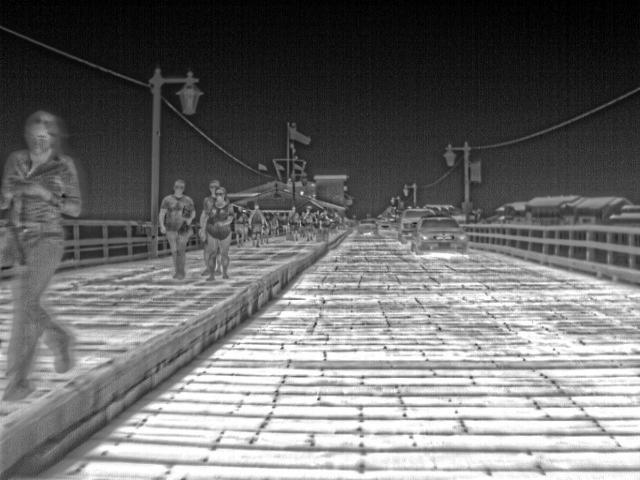car: (410, 216, 468, 253), (398, 206, 437, 240), (352, 218, 380, 234), (378, 218, 394, 232)
person: (4, 106, 86, 402), (158, 179, 197, 279), (198, 188, 232, 280), (247, 200, 270, 250), (199, 180, 222, 227), (230, 204, 248, 248), (300, 203, 318, 244), (285, 204, 303, 244)
